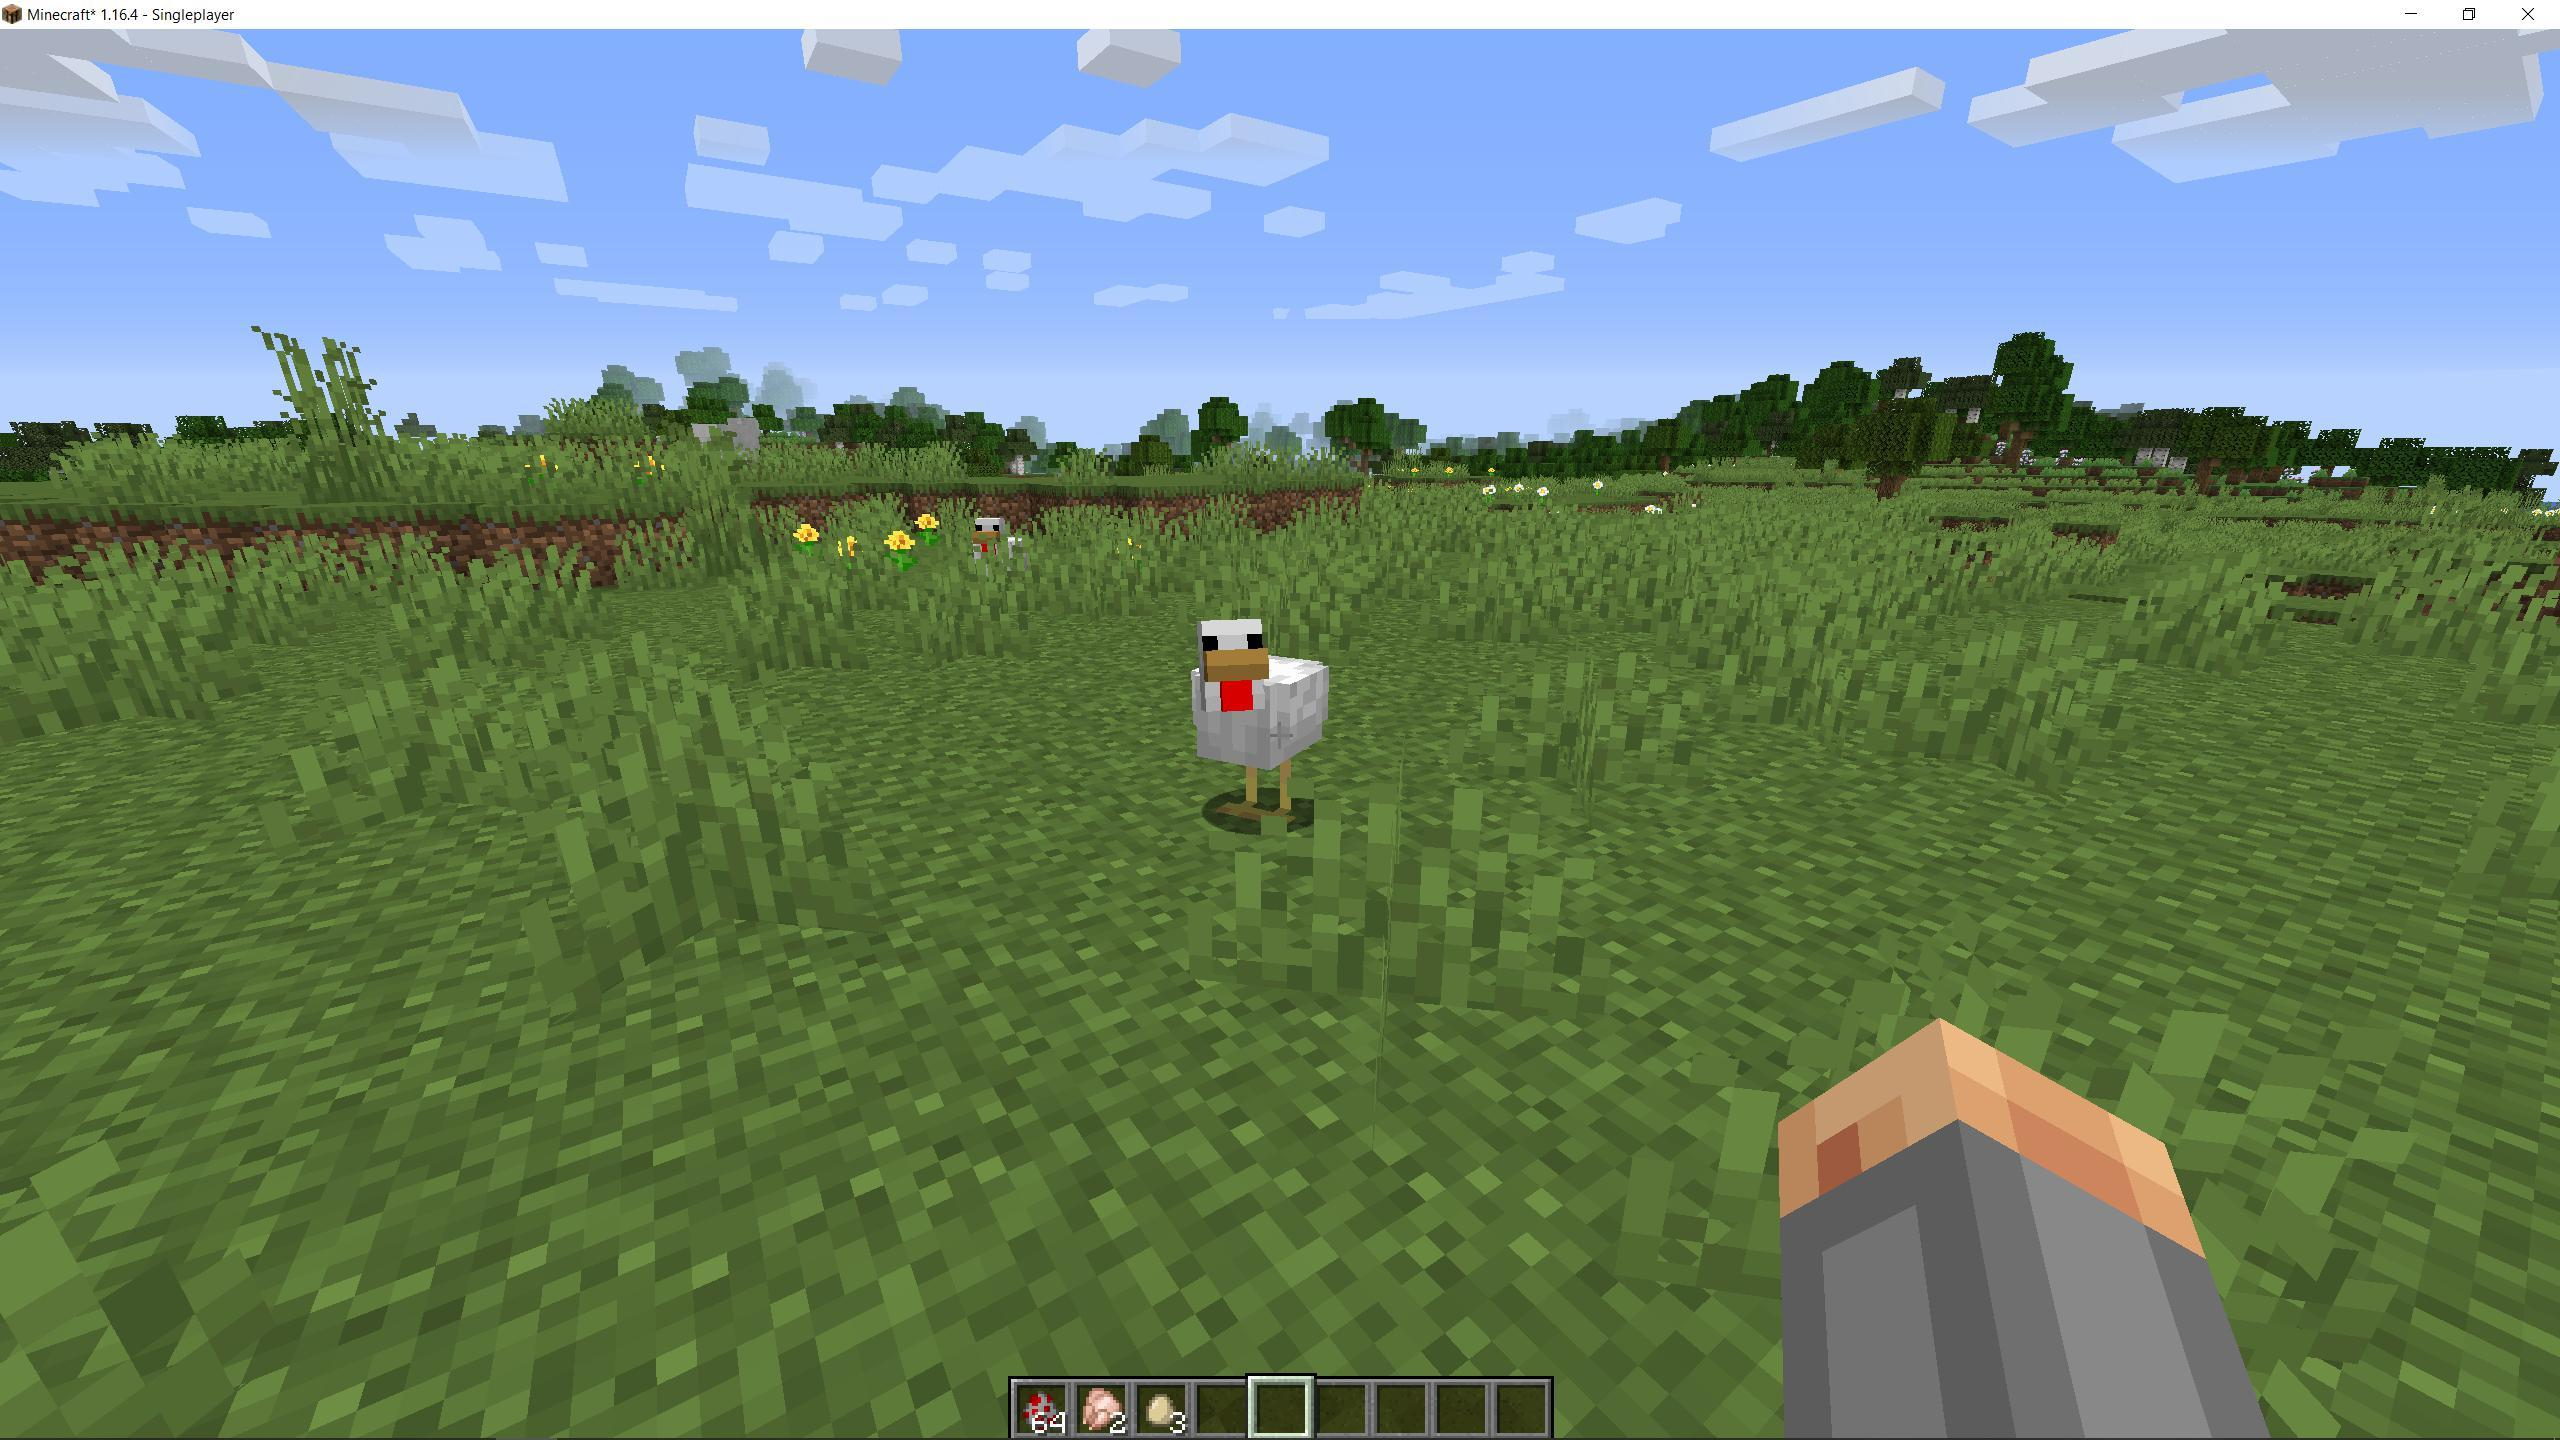chicken: (1183, 600, 1349, 853), (964, 512, 1044, 596)
